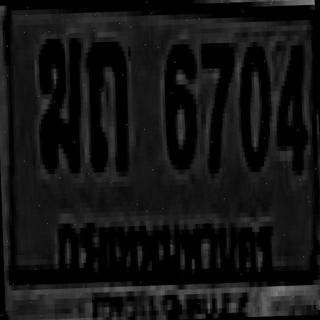A06: (36, 33, 80, 164)
A22: (85, 36, 128, 167)
N00: (236, 41, 268, 167)
N04: (271, 40, 304, 166)
N06: (160, 39, 196, 165)
N07: (198, 38, 236, 168)
P04: (53, 208, 282, 296)
